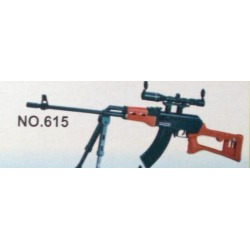rifle: (17, 87, 243, 166)
